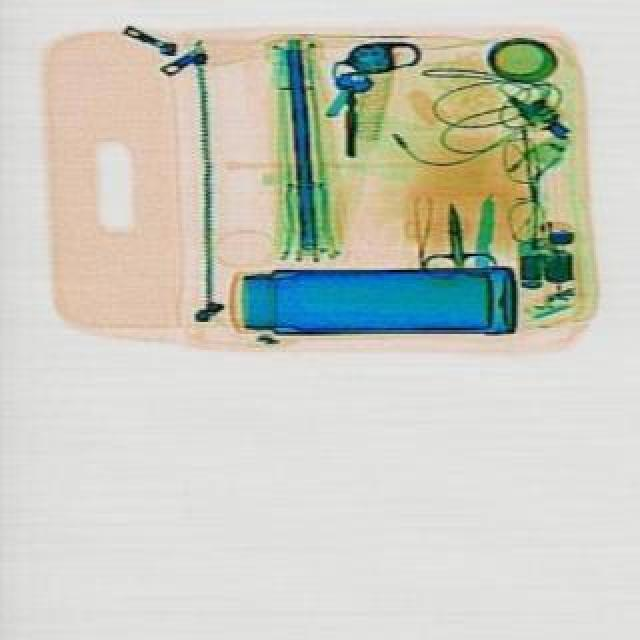pliers: (410, 200, 494, 284)
